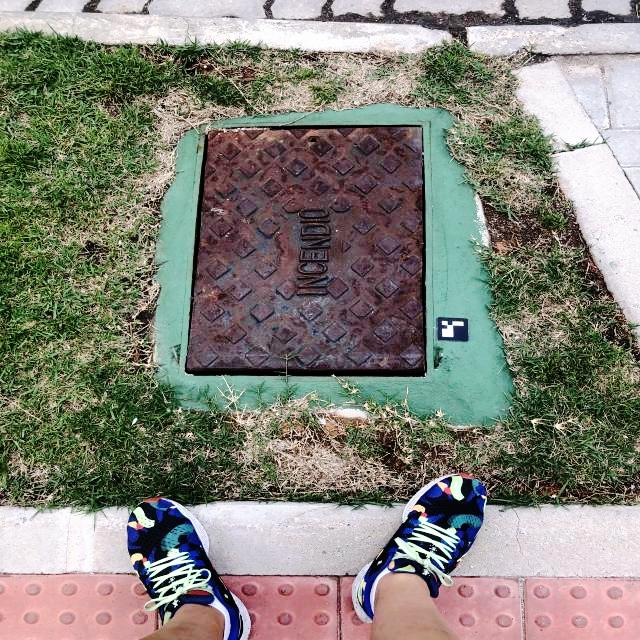Corrosion: (186, 127, 425, 373)
